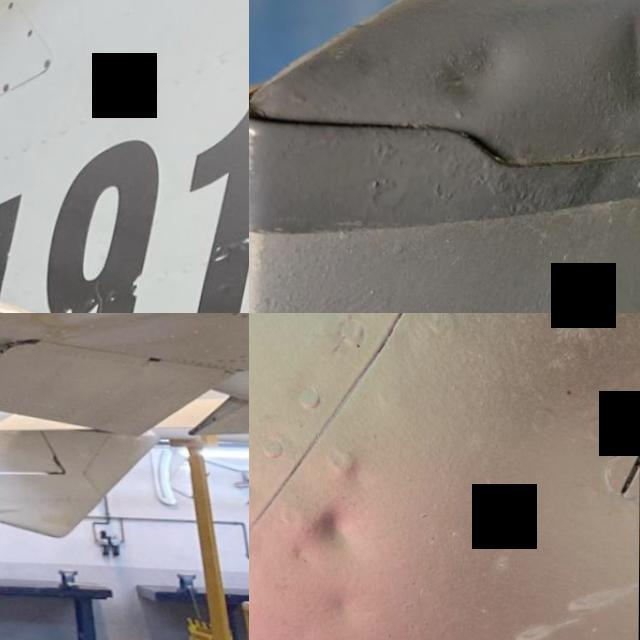Dent: (280, 474, 400, 580), (420, 16, 522, 126), (590, 0, 640, 129)
